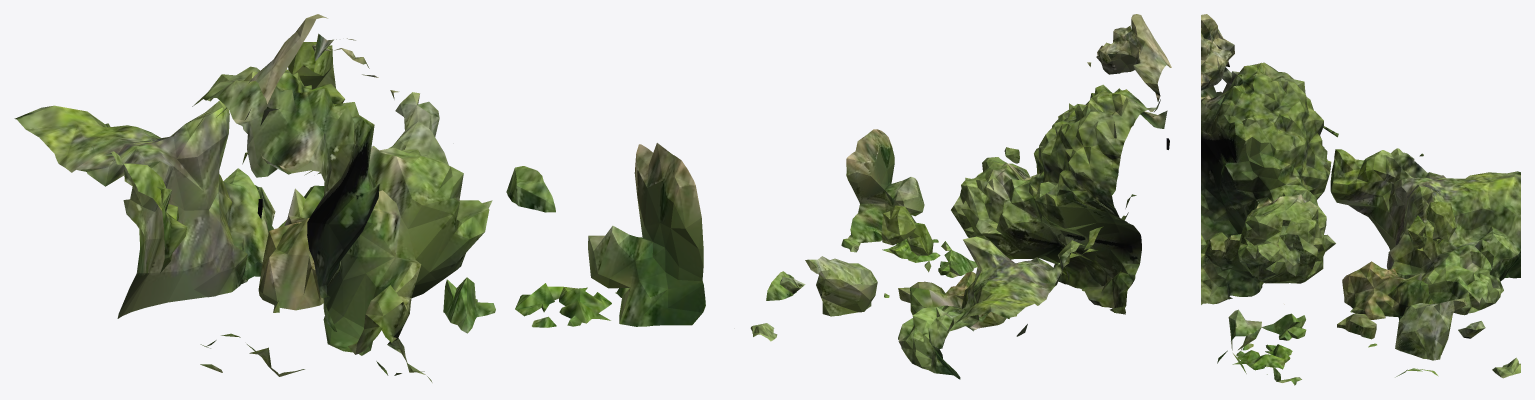
The picture shows the model from 3 angles, left to right: view 1: azimuth 30°, elevation 25°; view 2: azimuth 150°, elevation 25°; view 3: azimuth 270°, elevation 25°; orthographic projection. The views are drawn at different scales.
Size of the model in its own units: 26.11 by 22.64 by 26.11.
Materials: 4 (4 with a texture image).
